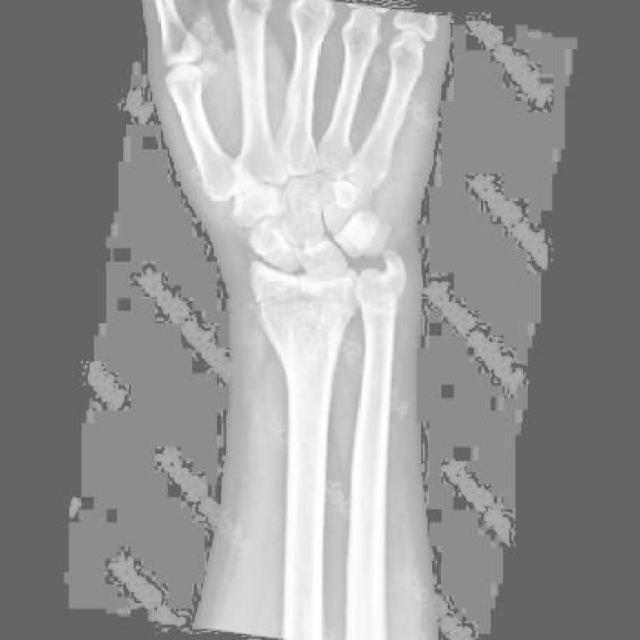Fracture: (257, 275, 357, 340)
